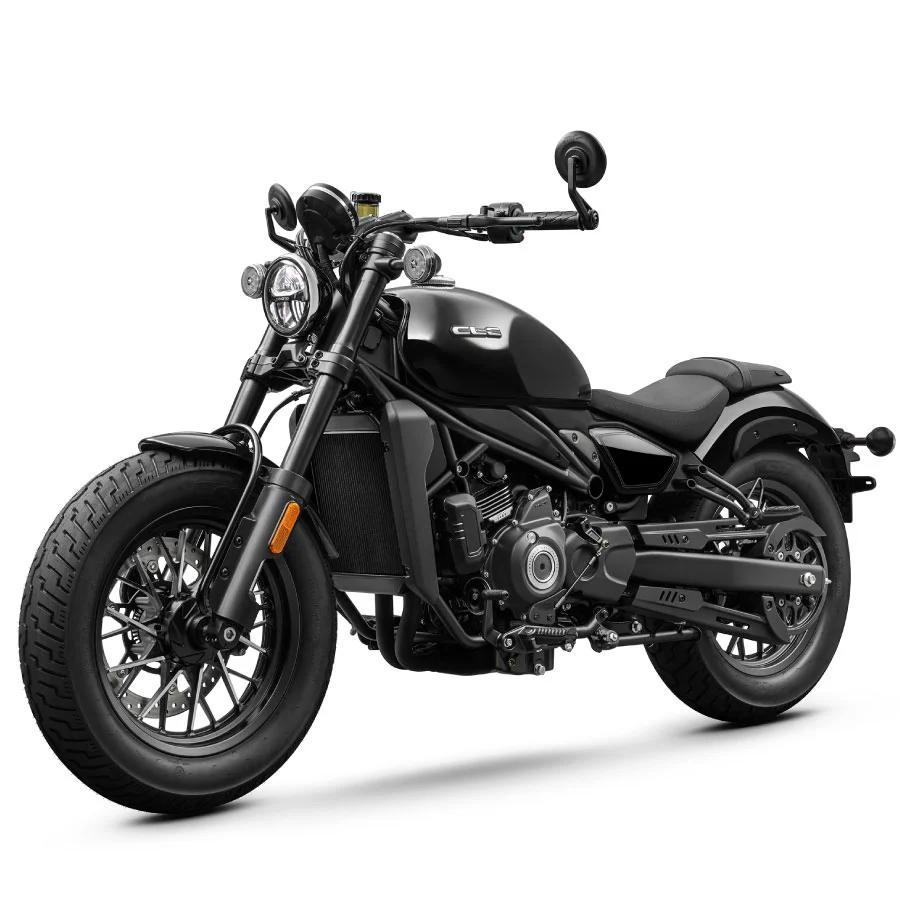motorcycle: (12, 122, 900, 837)
